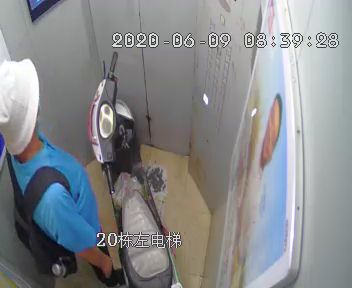Electric-bicycle: (85, 51, 179, 288)
